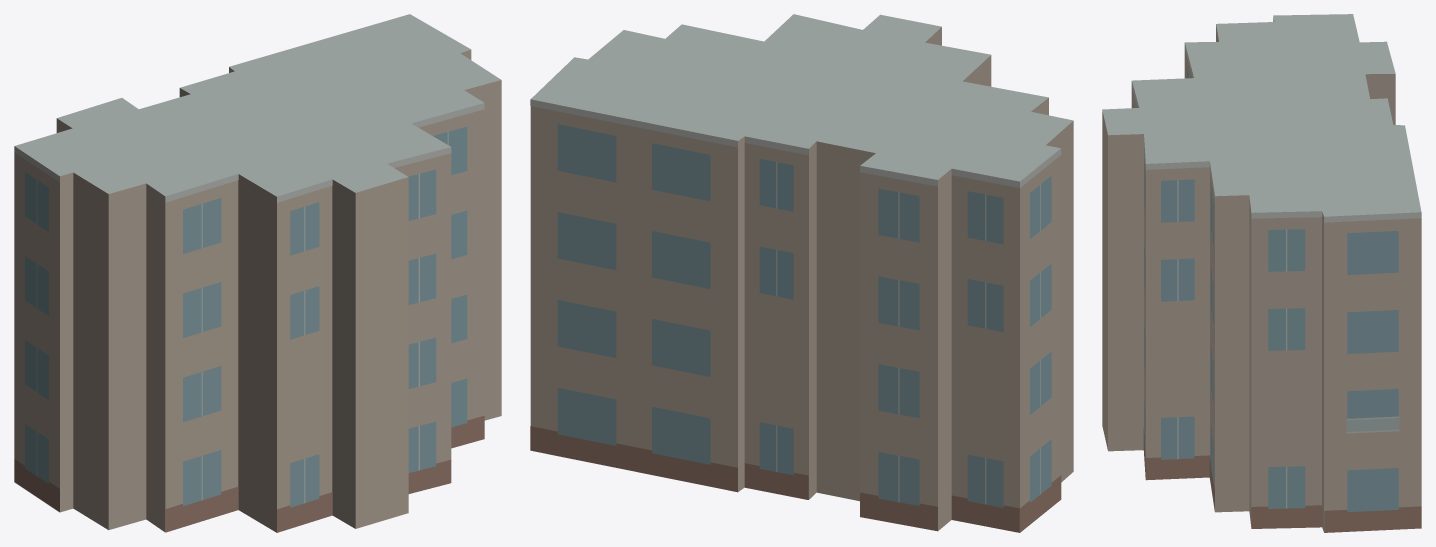
File: survey-upis-33004873.glb
3 views of the same model, side by side, from view 1: azimuth 30°, elevation 25°; view 2: azimuth 150°, elevation 25°; view 3: azimuth 270°, elevation 25° (orthographic). The views are drawn at different scales.
Visible parts, largest first — view 1: survey-upis-33004873.tmp; view 2: survey-upis-33004873.tmp; view 3: survey-upis-33004873.tmp.
Part boxes in pixels (<box>): survey-upis-33004873.tmp: <box>14,14,501,532</box>; survey-upis-33004873.tmp: <box>530,14,1073,532</box>; survey-upis-33004873.tmp: <box>1102,14,1421,532</box>.
Bounding box in the file's own units: 18.06 × 13.12 × 12.02.
